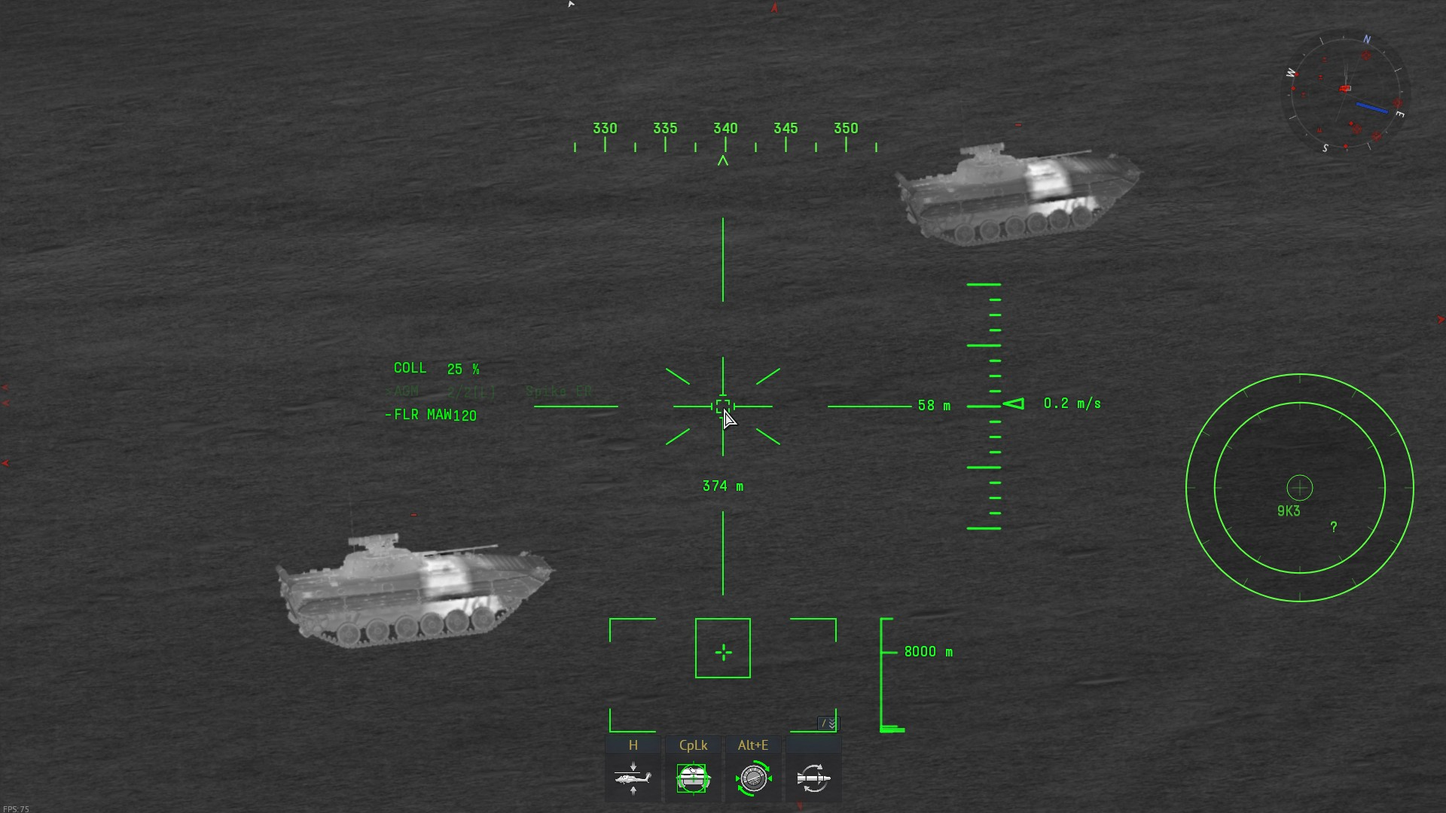bmp2: (276, 532, 554, 649), (894, 143, 1143, 246)
